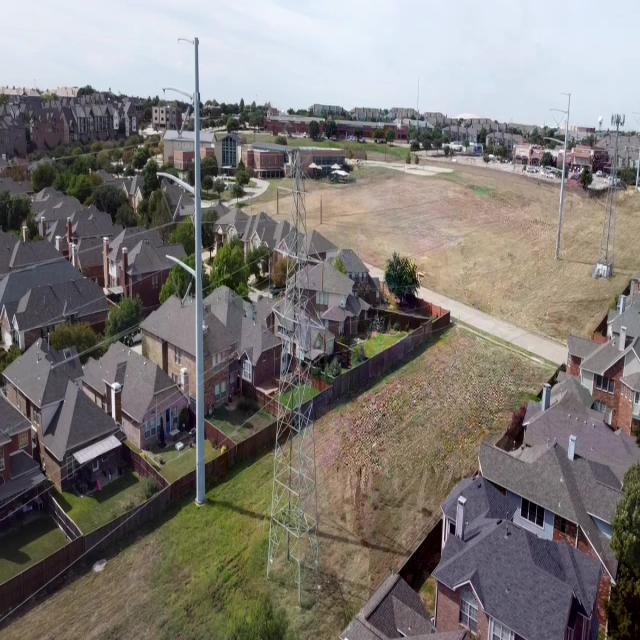杆塔: (260, 150, 335, 624), (600, 108, 627, 281)
正常绝缘子: (175, 100, 193, 144), (164, 100, 182, 141), (169, 190, 186, 229), (169, 271, 185, 312), (160, 187, 176, 227), (178, 277, 195, 311), (317, 188, 323, 232), (320, 325, 328, 358), (274, 186, 281, 218), (320, 258, 325, 298), (272, 250, 276, 278)
